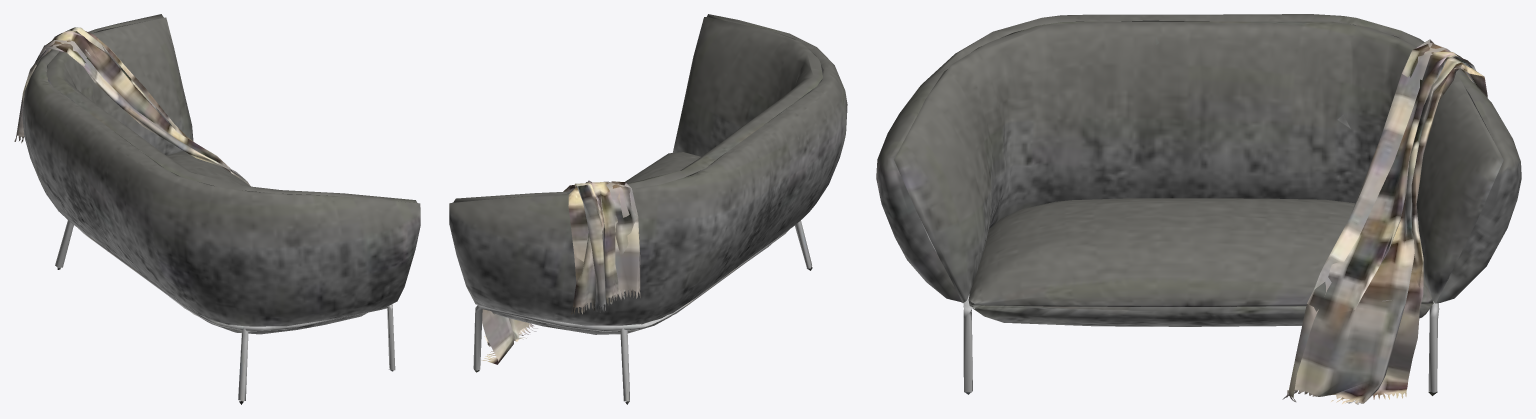
Rendered from M_Sofa0018.obj.
3 views of the same model, side by side, from view 1: azimuth 30°, elevation 25°; view 2: azimuth 150°, elevation 25°; view 3: azimuth 270°, elevation 25° (orthographic). The views are drawn at different scales.
Bounding box in the file's own units: 0.839 × 0.754 × 1.63.
Materials: 1 (1 with a texture image).
